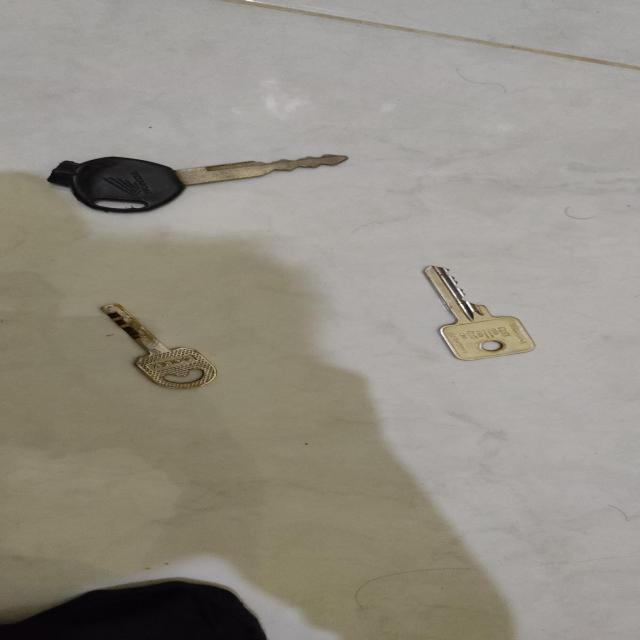kunci_kos: (415, 261, 543, 368)
kunci_motor: (25, 146, 370, 217)
kunci_pagar: (88, 301, 234, 390)
